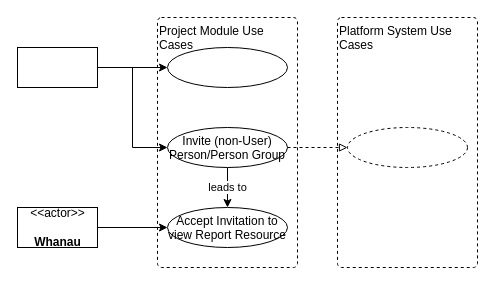
The diagram is 495 pixels wide and 285 high, and some of its shapes have lost their labels. The centre of each missing label's shape, as x and y in pixels:
"<<actor>> Teacher" goes at [57,67].
"Invite to Resource" goes at [407,147].
"Make Assessment Report" goes at [227,67].
